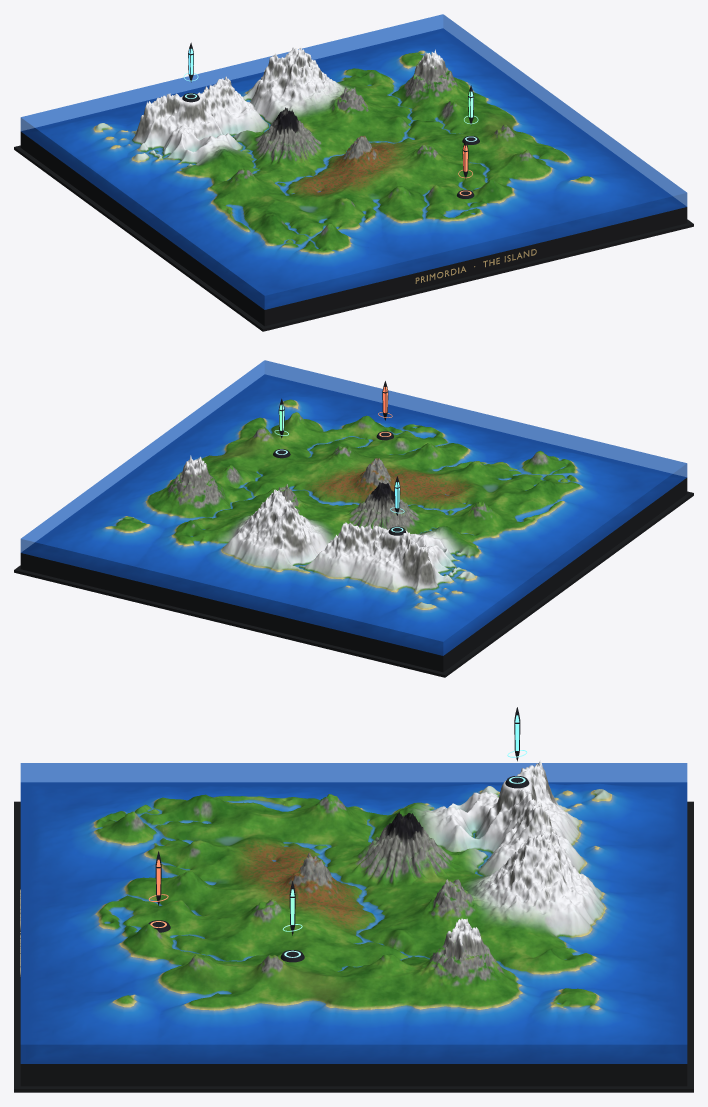
The model's file is PRIMORDIA_TheIsland.glb.
3 renders of one model, top to bottom at view 1: azimuth 30°, elevation 25°; view 2: azimuth 150°, elevation 25°; view 3: azimuth 270°, elevation 25°, orthographic. The views are drawn at different scales.
Parts seen in each view (by area): view 1: PRIM_Terrain, PRIM_Ocean, PRIM_Pedestal; view 2: PRIM_Terrain, PRIM_Ocean, PRIM_Pedestal; view 3: PRIM_Terrain, PRIM_Ocean, PRIM_Pedestal.
Boxes of the visible parts, x1=… form: PRIM_Terrain: x1=21, y1=28, x2=686, y2=309; PRIM_Ocean: x1=20, y1=14, x2=687, y2=309; PRIM_Pedestal: x1=14, y1=132, x2=693, y2=331; PRIM_Terrain: x1=21, y1=374, x2=686, y2=655; PRIM_Ocean: x1=20, y1=360, x2=687, y2=655; PRIM_Pedestal: x1=14, y1=478, x2=693, y2=677; PRIM_Terrain: x1=20, y1=760, x2=687, y2=1063; PRIM_Ocean: x1=20, y1=763, x2=687, y2=1063; PRIM_Pedestal: x1=14, y1=801, x2=693, y2=1092.
Size of the model in its own units: 102 by 28.82 by 102.
8 materials, 1 textured.
